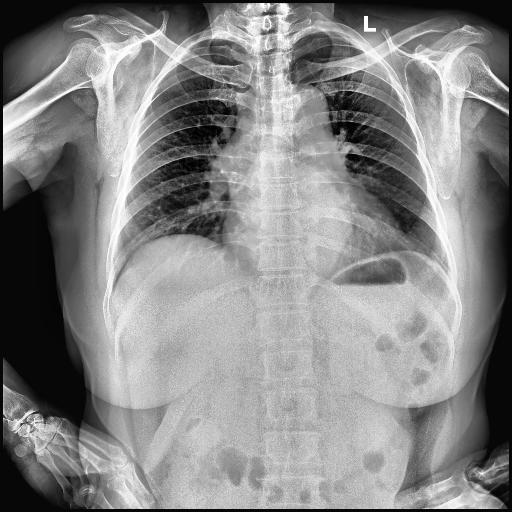0- Aortic enlargement: (274, 80, 334, 144), (281, 81, 339, 147), (271, 79, 335, 137)
3- Cardiomegaly: (217, 204, 419, 266), (220, 198, 409, 258), (220, 218, 409, 264)
